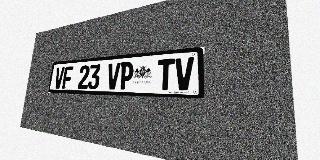2: (78, 65, 90, 89)
3: (88, 64, 101, 89)
F: (62, 66, 73, 89)
P: (119, 61, 134, 90)
T: (157, 58, 175, 90)
V: (174, 57, 194, 91), (106, 62, 121, 89), (54, 67, 65, 89)
